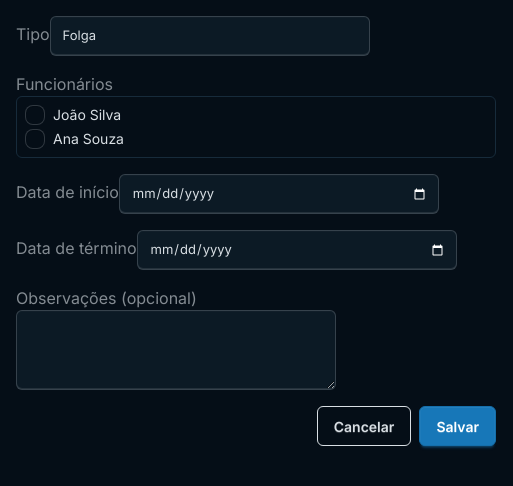
Test: shows validation error when endDate is before startDate
Expected: the text "João Silva" is shown, left=53, top=105, right=121, bottom=125
Click the checkbox labelled "João Silva".
click(35, 115)  # box left=25, top=105, right=45, bottom=125
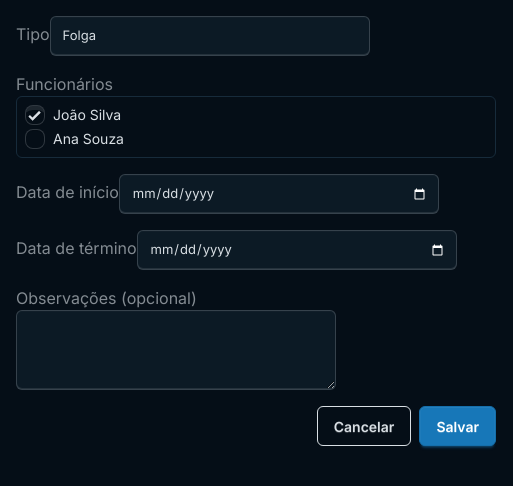
Type "2026-04-10" into the date field labelled "Data de início".
click(279, 194); type("2026-04-10")  # box left=119, top=174, right=439, bottom=214
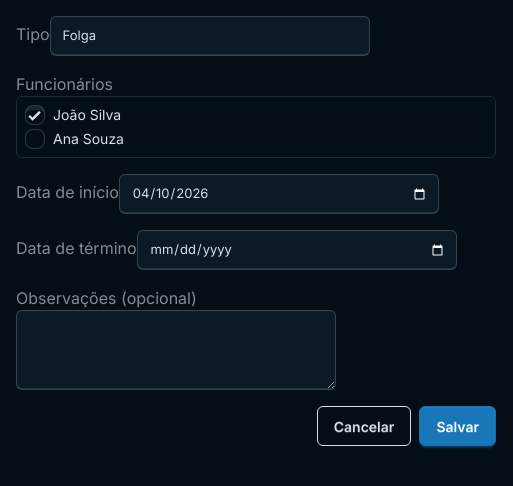
Type "2026-04-05" into the date field labelled "Data de término".
click(297, 250); type("2026-04-05")  # box left=137, top=230, right=457, bottom=270
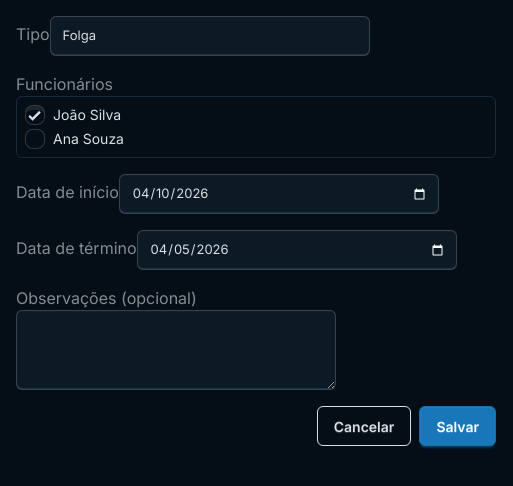
Click the button "Salvar".
click(458, 426)  # box left=419, top=406, right=496, bottom=446
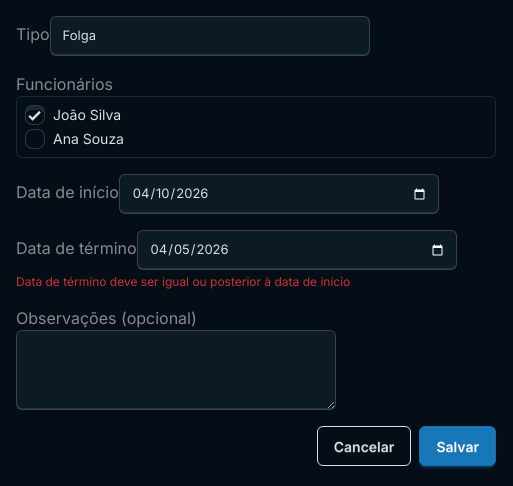
Expected: the text "Data de término deve ser igual ou posterior à data de início" is shown, left=16, top=274, right=350, bottom=289
